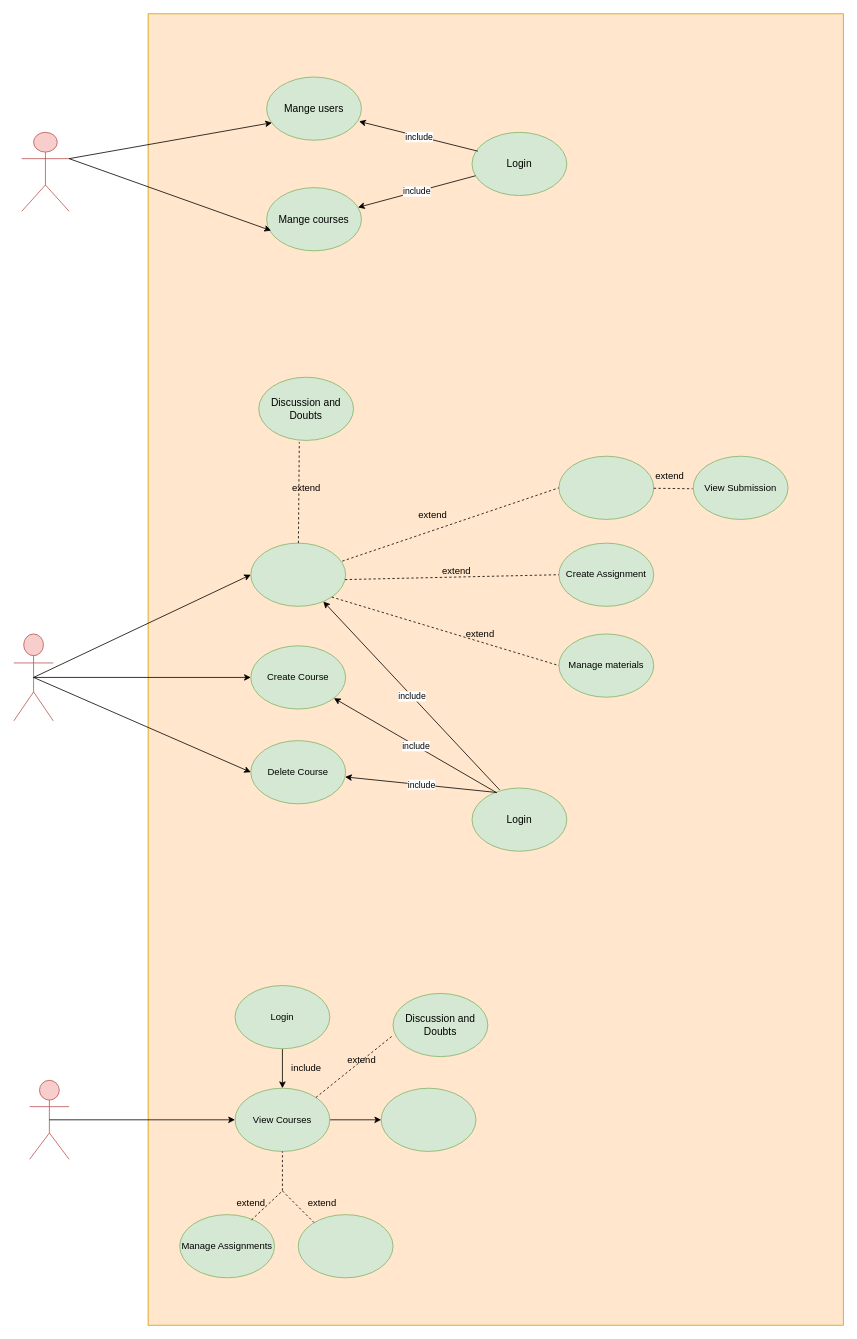
Some shapes in this 857 by 1339 pixel diagram are drawn without their labels. The centre of each missing label's shape, as x and y in pixels:
Administrator: (45,171)
Enroll in Courses: (428,1119)
Instructor: (33,677)
Manage Assignment: (606,487)
Student: (49,1119)
View Course: (298,574)
View Course Content: (345,1246)
